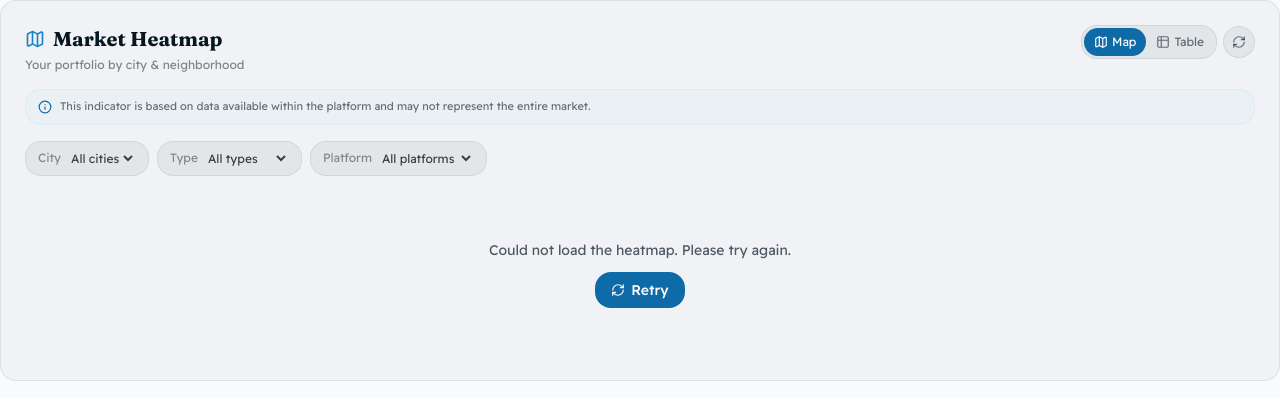
Scenario: error state › shows a retry on a generic failure
Click the button "Retry".
click(640, 290)  # box 595,272 -> 685,308
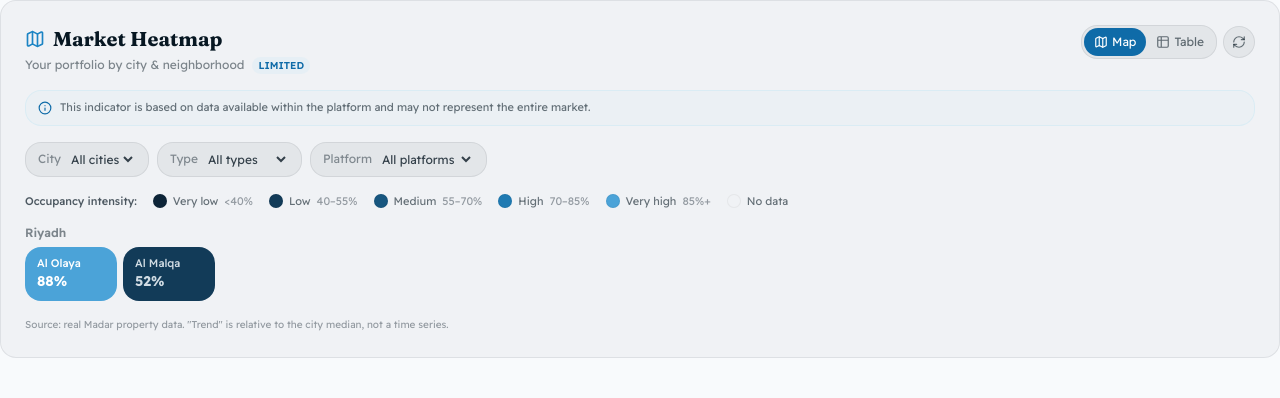
Check: the text "Occupancy intensity:" is shown, box 25,193 -> 137,209
